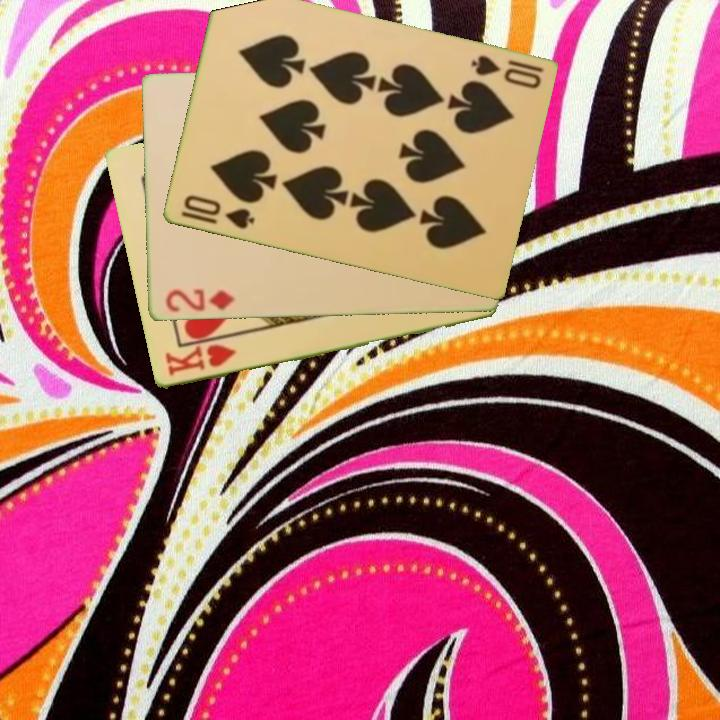10s: (176, 191, 257, 232), (467, 52, 547, 92)
2d: (161, 285, 237, 315)
Kh: (161, 341, 239, 380)
